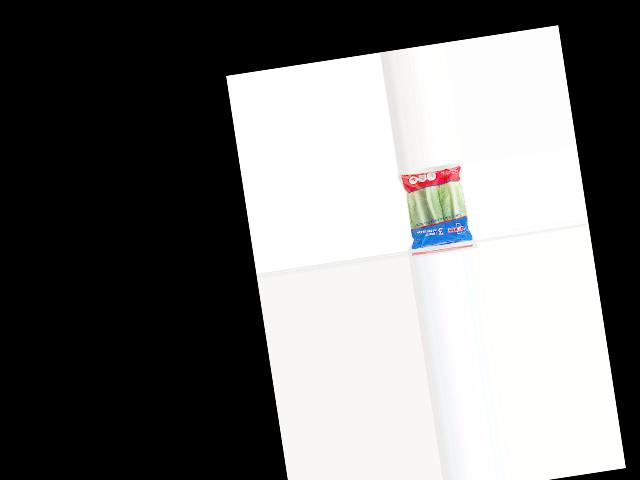lettuce: (399, 162, 476, 253)
